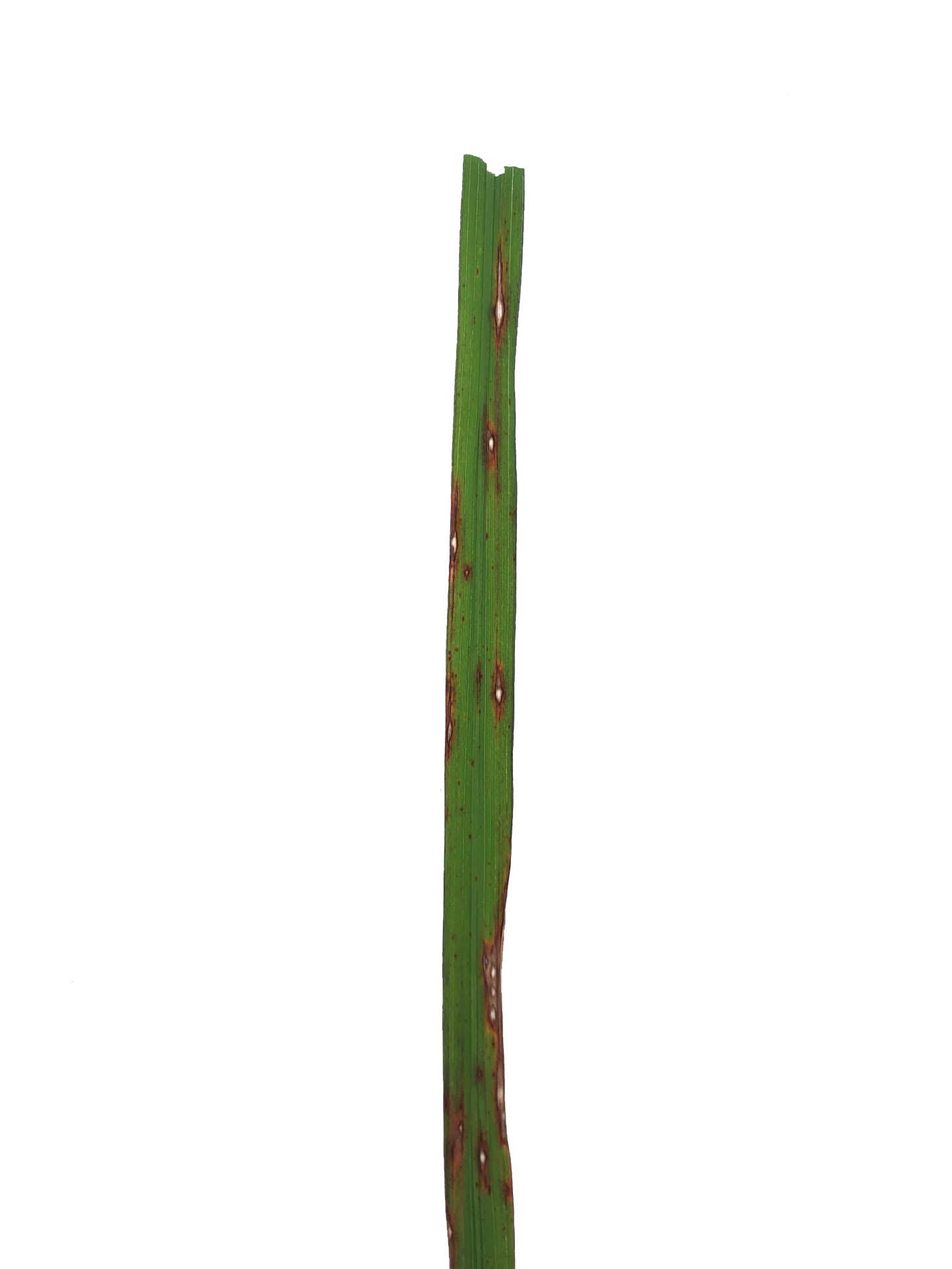Rice blast: (481, 936, 508, 1160), (486, 241, 512, 356), (445, 659, 463, 789), (446, 1086, 467, 1186), (480, 408, 503, 490), (475, 1126, 494, 1204), (493, 662, 507, 740)
